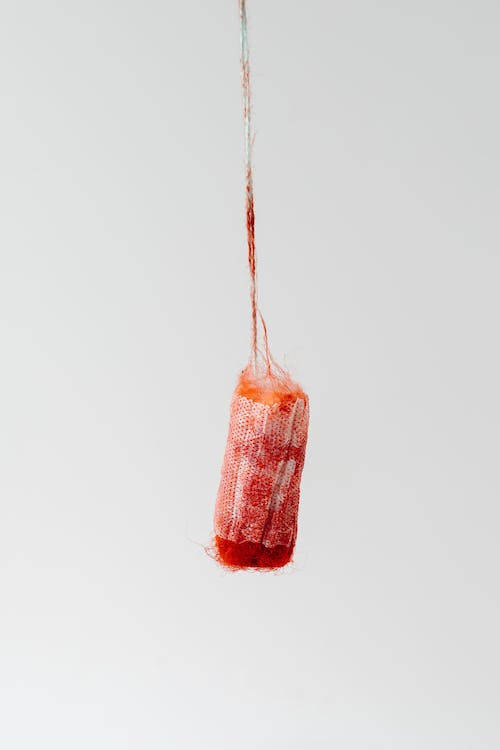blood: (202, 0, 312, 574)
